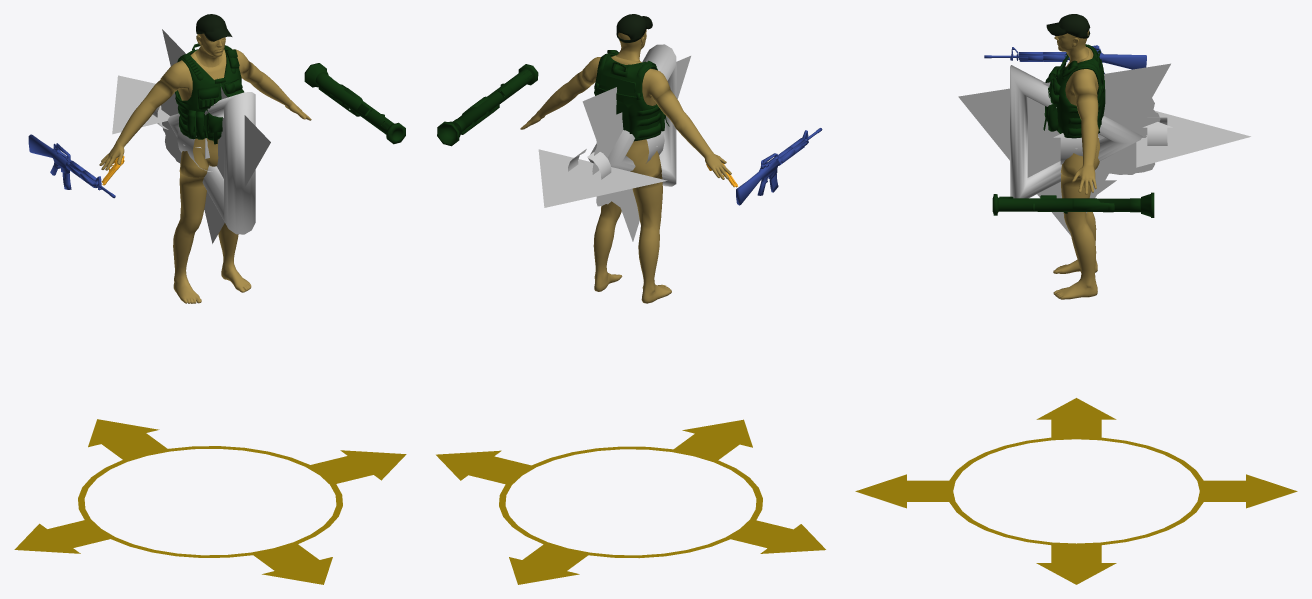
The model's file is ArmaRig_V6_2.obj.
The picture shows the model from 3 angles, left to right: view 1: azimuth 30°, elevation 25°; view 2: azimuth 150°, elevation 25°; view 3: azimuth 270°, elevation 25°; orthographic projection. The views are drawn at different scales.
Parts seen in each view (by area): view 1: MCo_Circle.006, Character_reference_Character_reference.001, Cube2_Cube.001, Vest_reference, Cone, Launcher__reference, Tri, Weapon_reference_weapon_reference, Head_reference, HeadGear_reference, fistR_Plane.006; view 2: MCo_Circle.006, Character_reference_Character_reference.001, Tri, Vest_reference, Cube2_Cube.001, Launcher__reference, Cone, Weapon_reference_weapon_reference, fistL_Plane.001, HeadGear_reference, Head_reference; view 3: MCo_Circle.006, Cone, Character_reference_Character_reference.001, Cube2_Cube.001, Vest_reference, Tri, Launcher__reference, Weapon_reference_weapon_reference, HeadGear_reference, fistL_Plane.001, Head_reference.
Part boxes in pixels (x1,y1,x2,y2): MCo_Circle.006: [14, 419, 406, 584]; Character_reference_Character_reference.001: [99, 49, 311, 303]; Cube2_Cube.001: [167, 92, 255, 234]; Vest_reference: [175, 43, 243, 144]; Cone: [162, 29, 270, 243]; Launcher__reference: [304, 63, 405, 144]; Tri: [112, 75, 169, 134]; Weapon_reference_weapon_reference: [28, 134, 115, 198]; Head_reference: [195, 33, 225, 67]; HeadGear_reference: [196, 14, 232, 41]; fistR_Plane.006: [161, 102, 181, 160]; MCo_Circle.006: [436, 419, 825, 584]; Character_reference_Character_reference.001: [520, 55, 731, 303]; Tri: [538, 149, 667, 207]; Vest_reference: [594, 50, 669, 141]; Cube2_Cube.001: [588, 44, 676, 186]; Launcher__reference: [437, 64, 538, 146]; Cone: [582, 56, 690, 241]; Weapon_reference_weapon_reference: [736, 128, 822, 205]; fistL_Plane.001: [592, 112, 623, 204]; HeadGear_reference: [616, 14, 652, 42]; Head_reference: [616, 29, 646, 60]; MCo_Circle.006: [855, 398, 1297, 584]; Cone: [958, 63, 1170, 235]; Character_reference_Character_reference.001: [1053, 47, 1099, 299]; Cube2_Cube.001: [1010, 65, 1142, 198]; Vest_reference: [1043, 44, 1105, 138]; Tri: [1136, 111, 1250, 167]; Launcher__reference: [992, 192, 1154, 217]; Weapon_reference_weapon_reference: [984, 45, 1146, 73]; HeadGear_reference: [1046, 14, 1090, 38]; fistL_Plane.001: [1109, 98, 1160, 174]; Head_reference: [1054, 30, 1088, 63].
Size of the model in its own units: 2.74 by 3.25 by 2.74.
